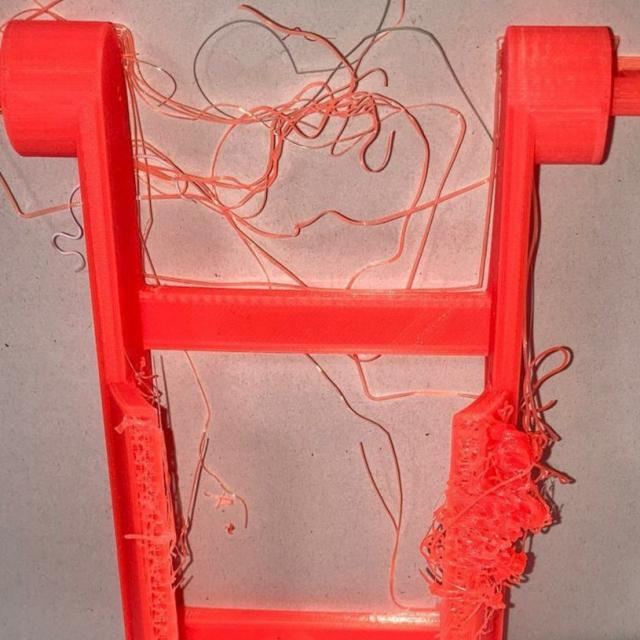Spaghetti: (202, 77, 416, 189), (427, 413, 542, 591), (397, 91, 475, 268), (276, 17, 376, 87), (146, 168, 256, 228)
